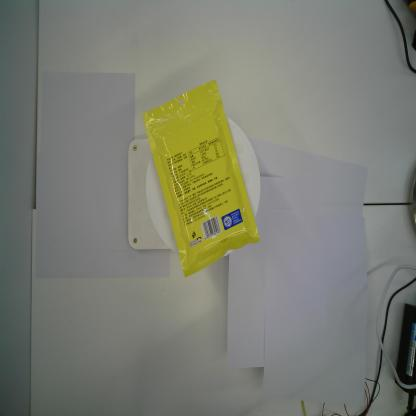Dried Fruit: (141, 78, 262, 280)
